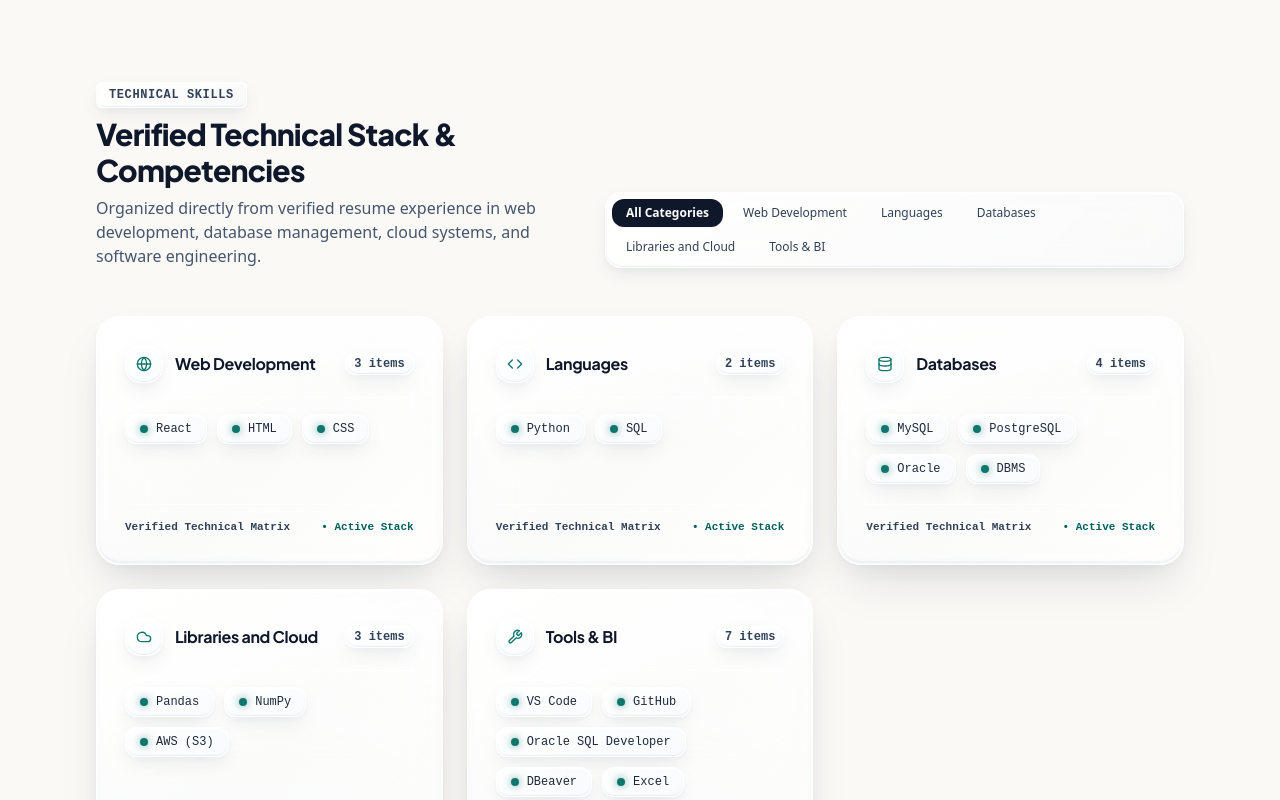
Scenario: Skills Component › restores all categories when "All Categories" button is clicked again
// First filter down to Databases
Click the button "Databases" at (1006, 213), box [963, 199, 1050, 227]
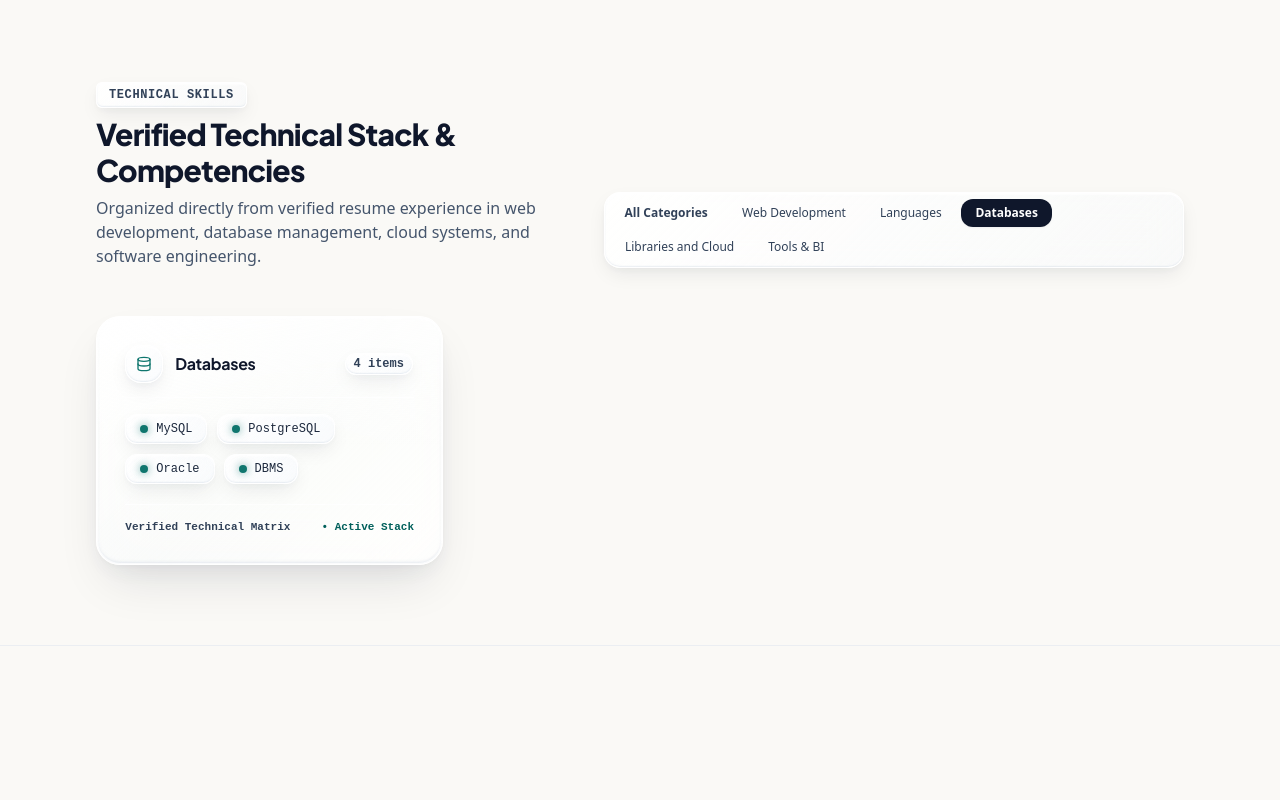
// Now click All Categories
Click the button "All Categories" at (666, 213), box [611, 199, 722, 227]
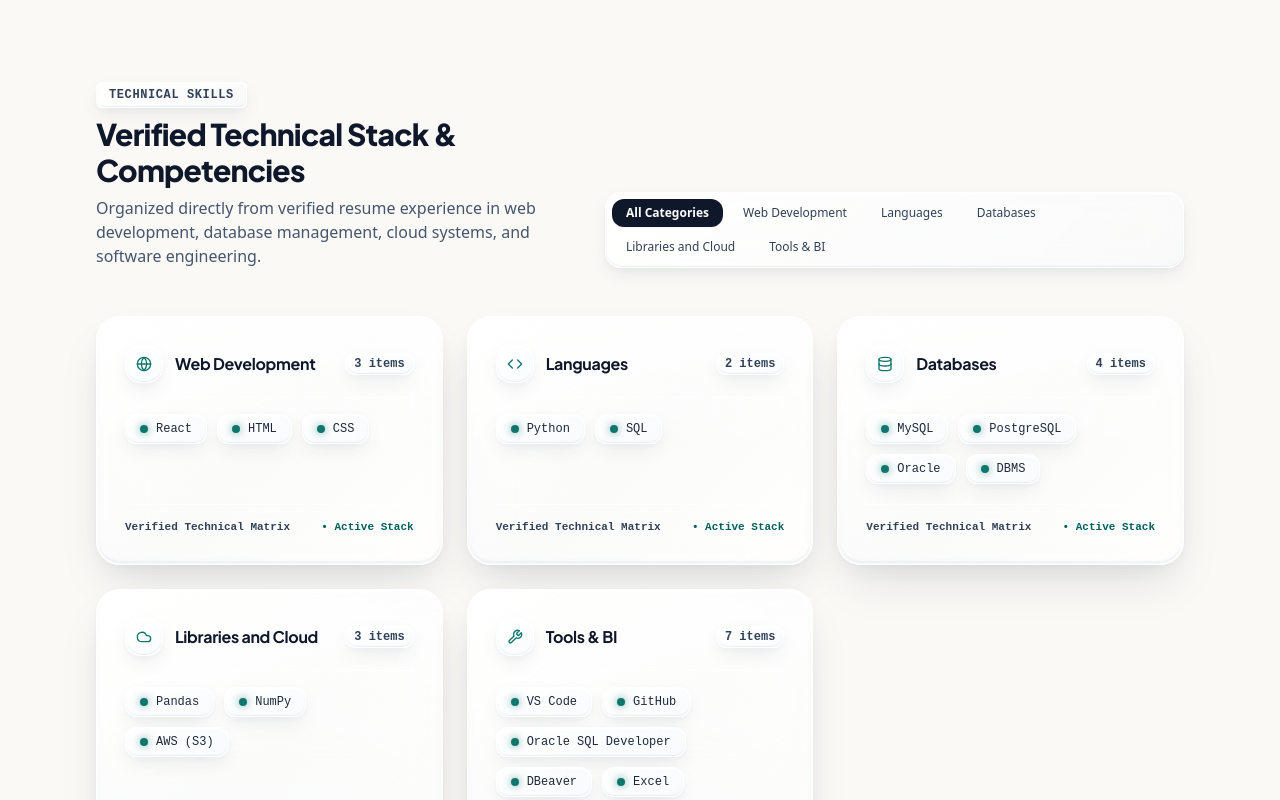
Expected: the heading "Databases" is shown, [916, 352, 996, 376]
Expected: the heading "Web Development" is shown, [175, 352, 316, 376]
Expected: the heading "Languages" is shown, [546, 352, 628, 376]
